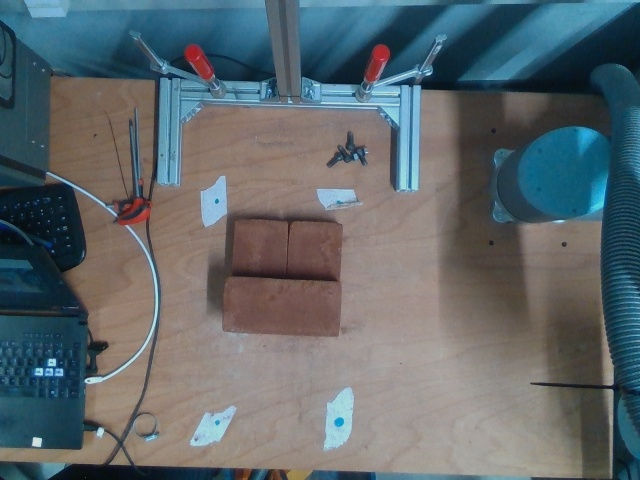brick: (223, 278, 339, 337)
